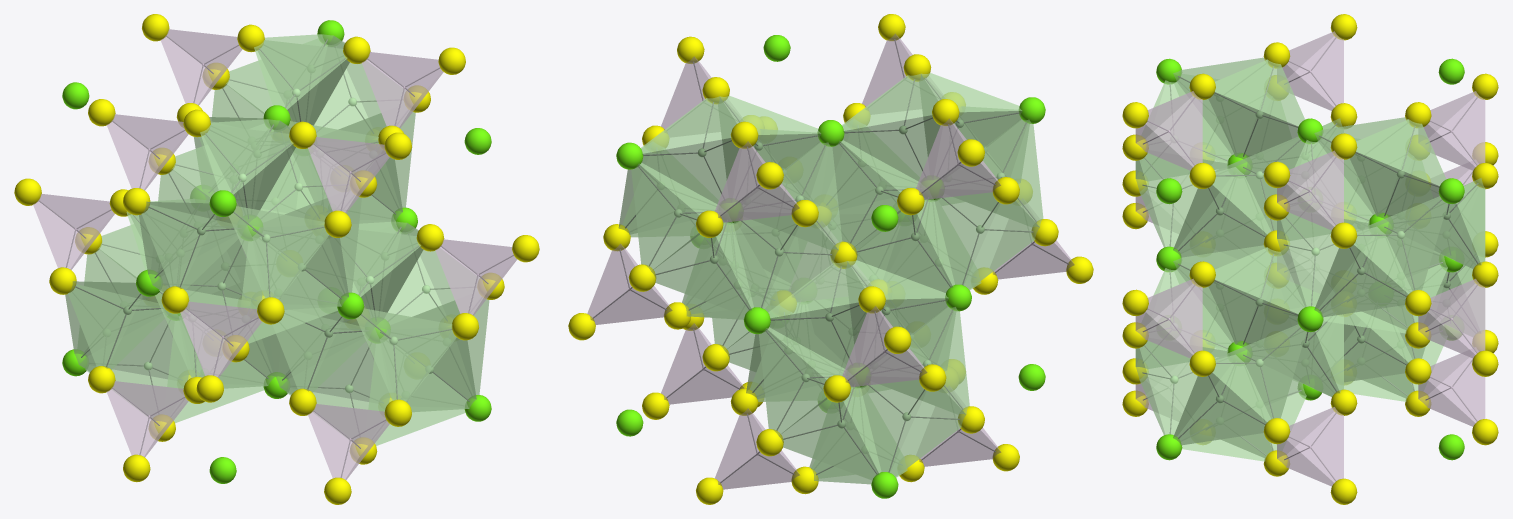
3 views of the same model, side by side, from view 1: azimuth 30°, elevation 25°; view 2: azimuth 150°, elevation 25°; view 3: azimuth 270°, elevation 25° (orthographic). The views are drawn at different scales.
Parts seen in each view (by area): view 1: Shape_IndexedFaceSet, Shape_IndexedFaceSet.192, atom5_IndexedFaceSet, atom1_IndexedFaceSet, Shape_Cylinder, atom0_IndexedFaceSet; view 2: Shape_IndexedFaceSet, Shape_IndexedFaceSet.192, atom5_IndexedFaceSet, atom1_IndexedFaceSet, Shape_Cylinder, atom0_IndexedFaceSet; view 3: Shape_IndexedFaceSet, Shape_IndexedFaceSet.192, atom5_IndexedFaceSet, atom1_IndexedFaceSet, Shape_Cylinder, atom0_IndexedFaceSet.
Boxes of the visible parts, left/top/right/bottom form: Shape_IndexedFaceSet: left=65, top=34, right=489, bottom=445; Shape_IndexedFaceSet.192: left=33, top=29, right=517, bottom=479; atom5_IndexedFaceSet: left=14, top=14, right=539, bottom=504; atom1_IndexedFaceSet: left=62, top=20, right=491, bottom=483; Shape_Cylinder: left=39, top=36, right=513, bottom=477; atom0_IndexedFaceSet: left=123, top=88, right=433, bottom=392; Shape_IndexedFaceSet: left=618, top=73, right=1043, bottom=484; Shape_IndexedFaceSet.192: left=587, top=33, right=1074, bottom=489; atom5_IndexedFaceSet: left=568, top=14, right=1093, bottom=504; atom1_IndexedFaceSet: left=616, top=35, right=1045, bottom=498; Shape_Cylinder: left=593, top=39, right=1068, bottom=482; atom0_IndexedFaceSet: left=674, top=119, right=1005, bottom=428; Shape_IndexedFaceSet: left=1135, top=57, right=1485, bottom=461; Shape_IndexedFaceSet.192: left=1135, top=31, right=1485, bottom=486; atom5_IndexedFaceSet: left=1122, top=14, right=1498, bottom=504; atom1_IndexedFaceSet: left=1156, top=58, right=1464, bottom=460; Shape_Cylinder: left=1142, top=37, right=1478, bottom=480; atom0_IndexedFaceSet: left=1170, top=110, right=1450, bottom=403.
Bounding box in the file's own units: 13.13 × 13.12 × 13.13.
